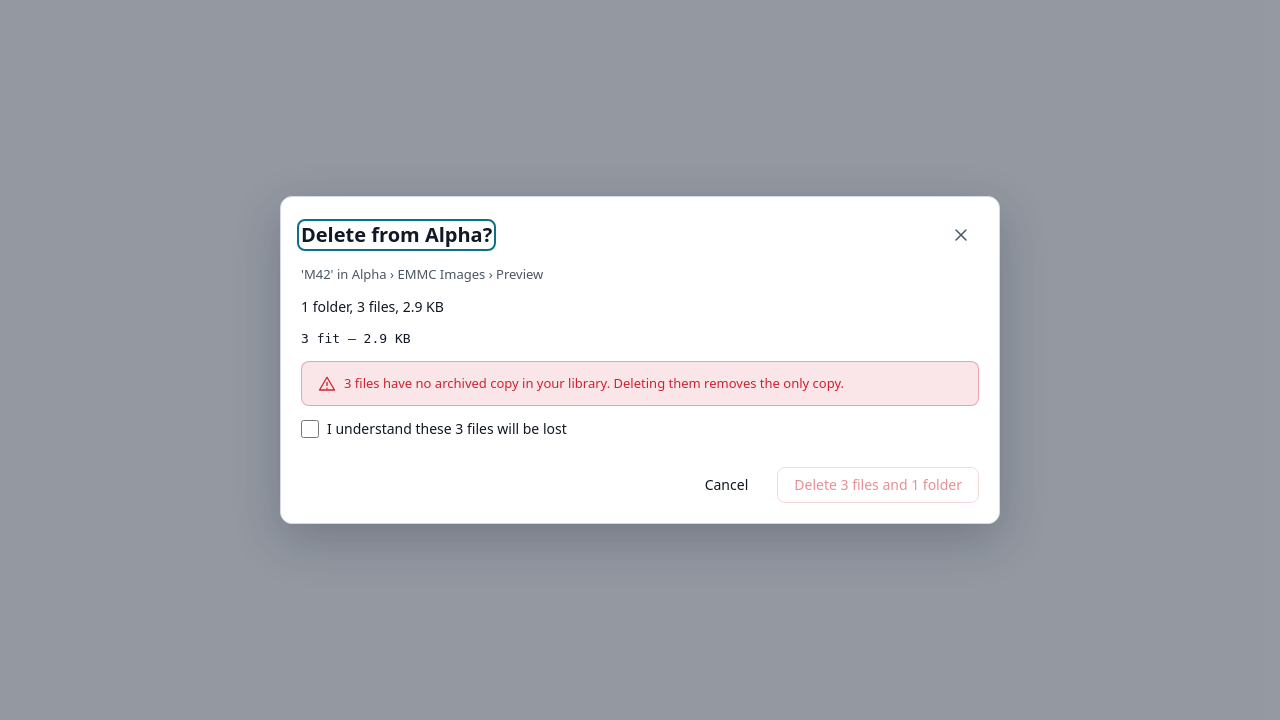
Scenario: plan accessibility › says why Delete is disabled until the box is ticked, and words its toast like the button
This screenshot has width=1280, height=720.
Click the checkbox labelled "I understand these 3 files will be lost": [310, 429] box [301,420,319,438]
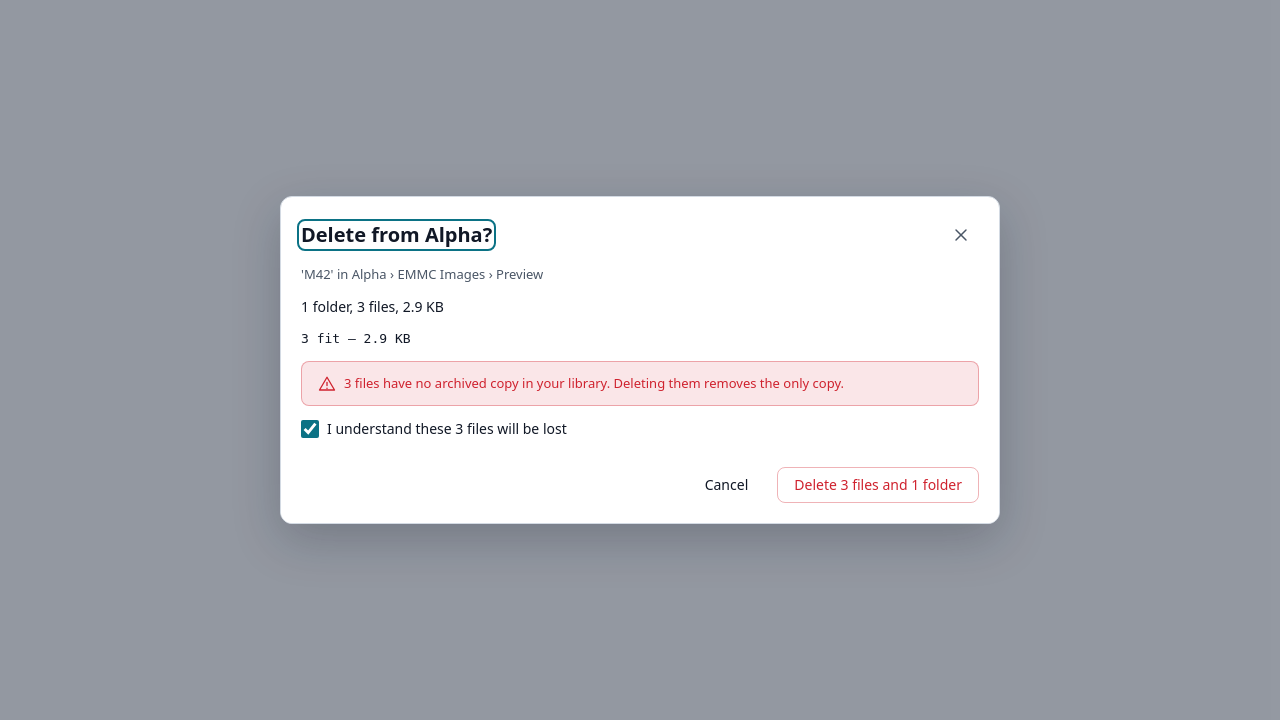
Check: the button "Delete 3 files and 1 folder" does not have attribute aria-describedby
Click the button "Delete 3 files and 1 folder": [878, 485] box [777,467,979,503]
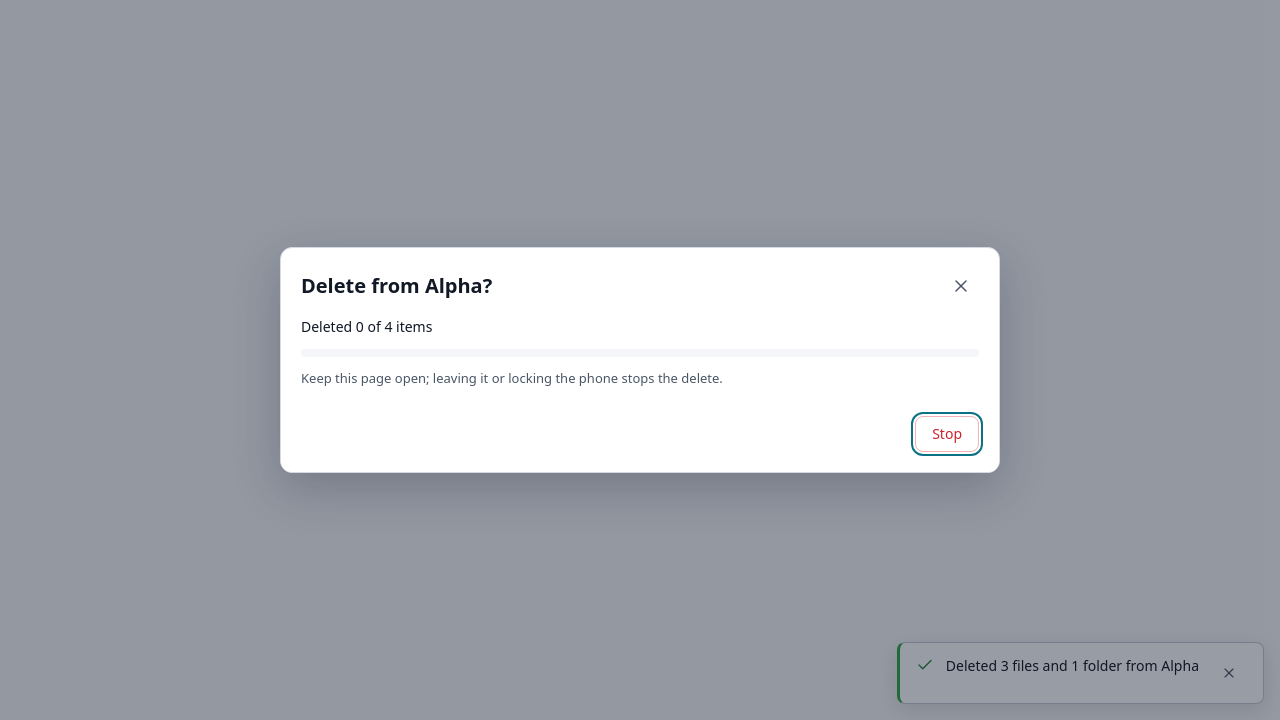
Check: the text "Deleted 3 files and 1 folder from Alpha" is shown, box [946,655,1199,676]
